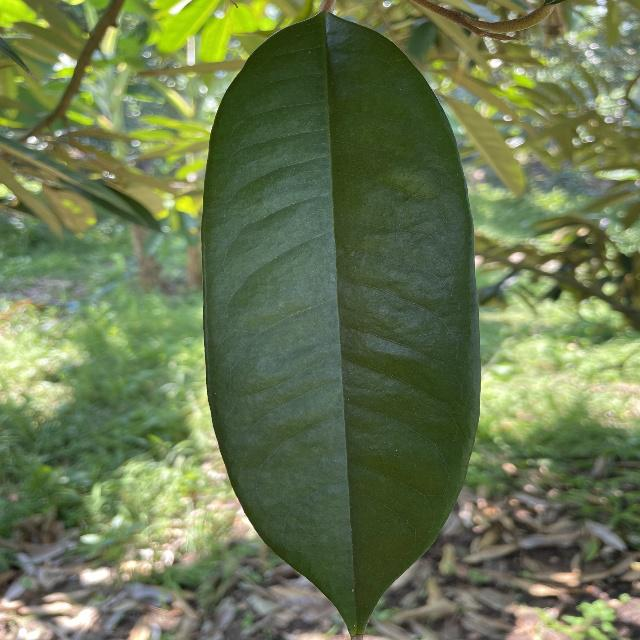No Disease: (197, 5, 488, 639)
